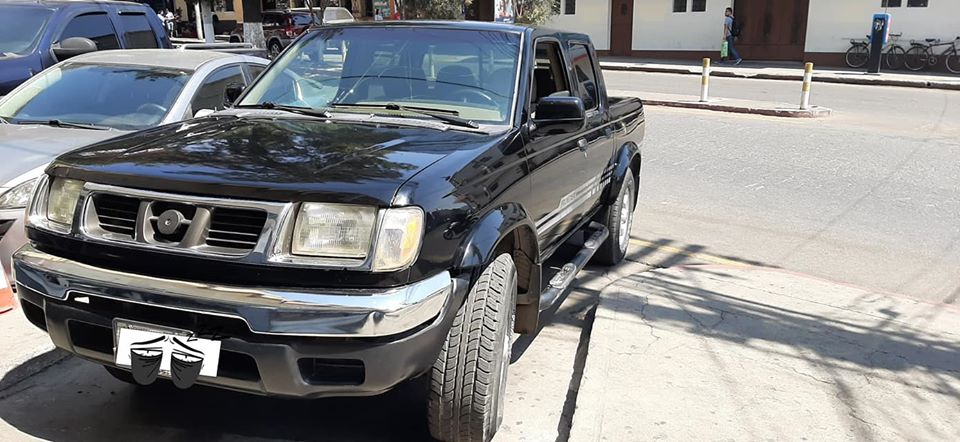pickup: (260, 15, 655, 442)
